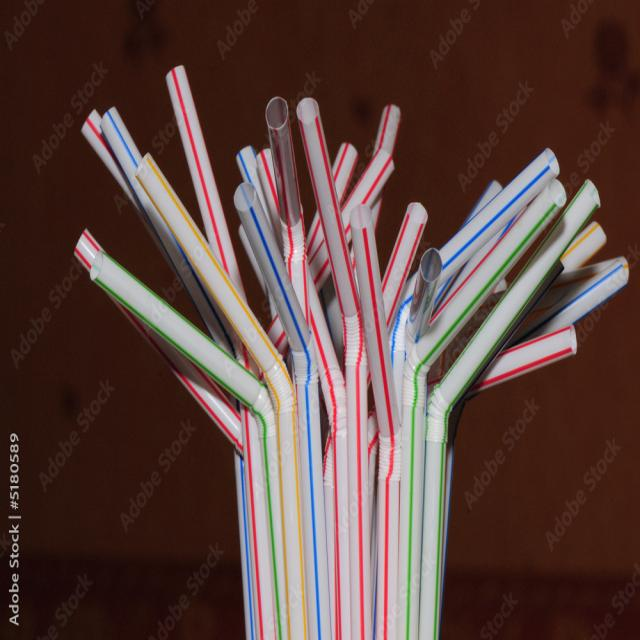plastic: (348, 158, 398, 639)
